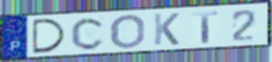2: (231, 9, 258, 43)
C: (70, 16, 108, 51)
D: (31, 17, 68, 55)
K: (152, 12, 181, 46)
O: (109, 13, 147, 50)
T: (191, 10, 220, 44)
